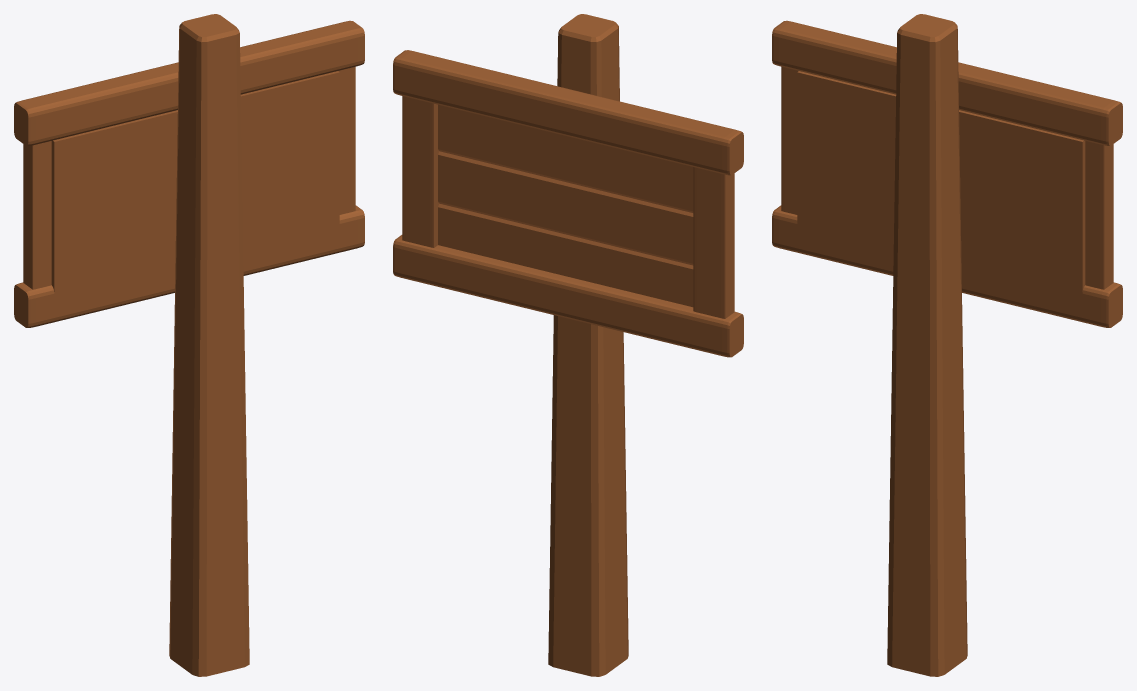
The model's file is sign bord.fbx.
3 views of the same model, side by side, from view 1: azimuth 30°, elevation 25°; view 2: azimuth 150°, elevation 25°; view 3: azimuth 330°, elevation 25° (orthographic).
Visible parts, largest first — view 1: Cube.002; view 2: Cube.002; view 3: Cube.002.
Part boxes in pixels (left/top/right/bottom): Cube.002: left=14, top=14, right=364, bottom=676; Cube.002: left=393, top=14, right=743, bottom=676; Cube.002: left=772, top=14, right=1122, bottom=676.
Bounding box in the file's own units: 204 × 368 × 46.
